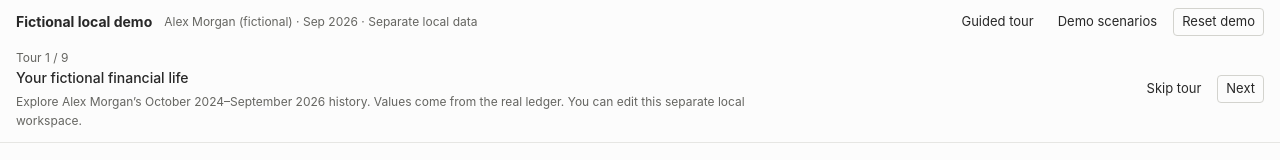
Test case: shows a skippable tour and navigates real product sections
Expected: the text "Fictional local demo" is shown, [16,12,152,32]
Step 1. Click the button "Next" → (1241, 89), box [1217,75,1264,103]
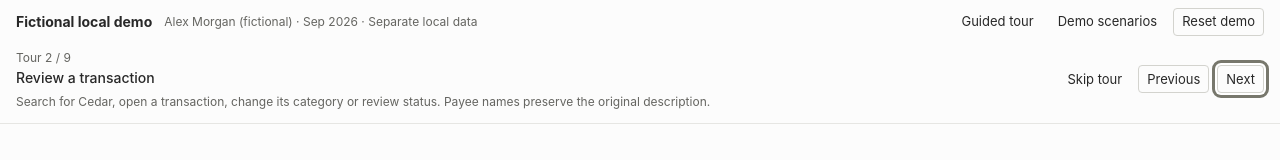
Expected: the text "Tour 2 / 9" is shown, [16,50,71,65]
Step 2. Click the button "Skip tour" → (1095, 79), box [1060,65,1130,93]
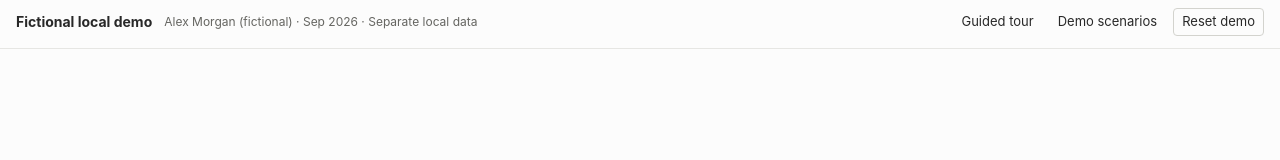
Expected: the text "Fictional local demo" is shown, [16,12,152,32]
Expected: the text "Tour 2 / 9" is gone
